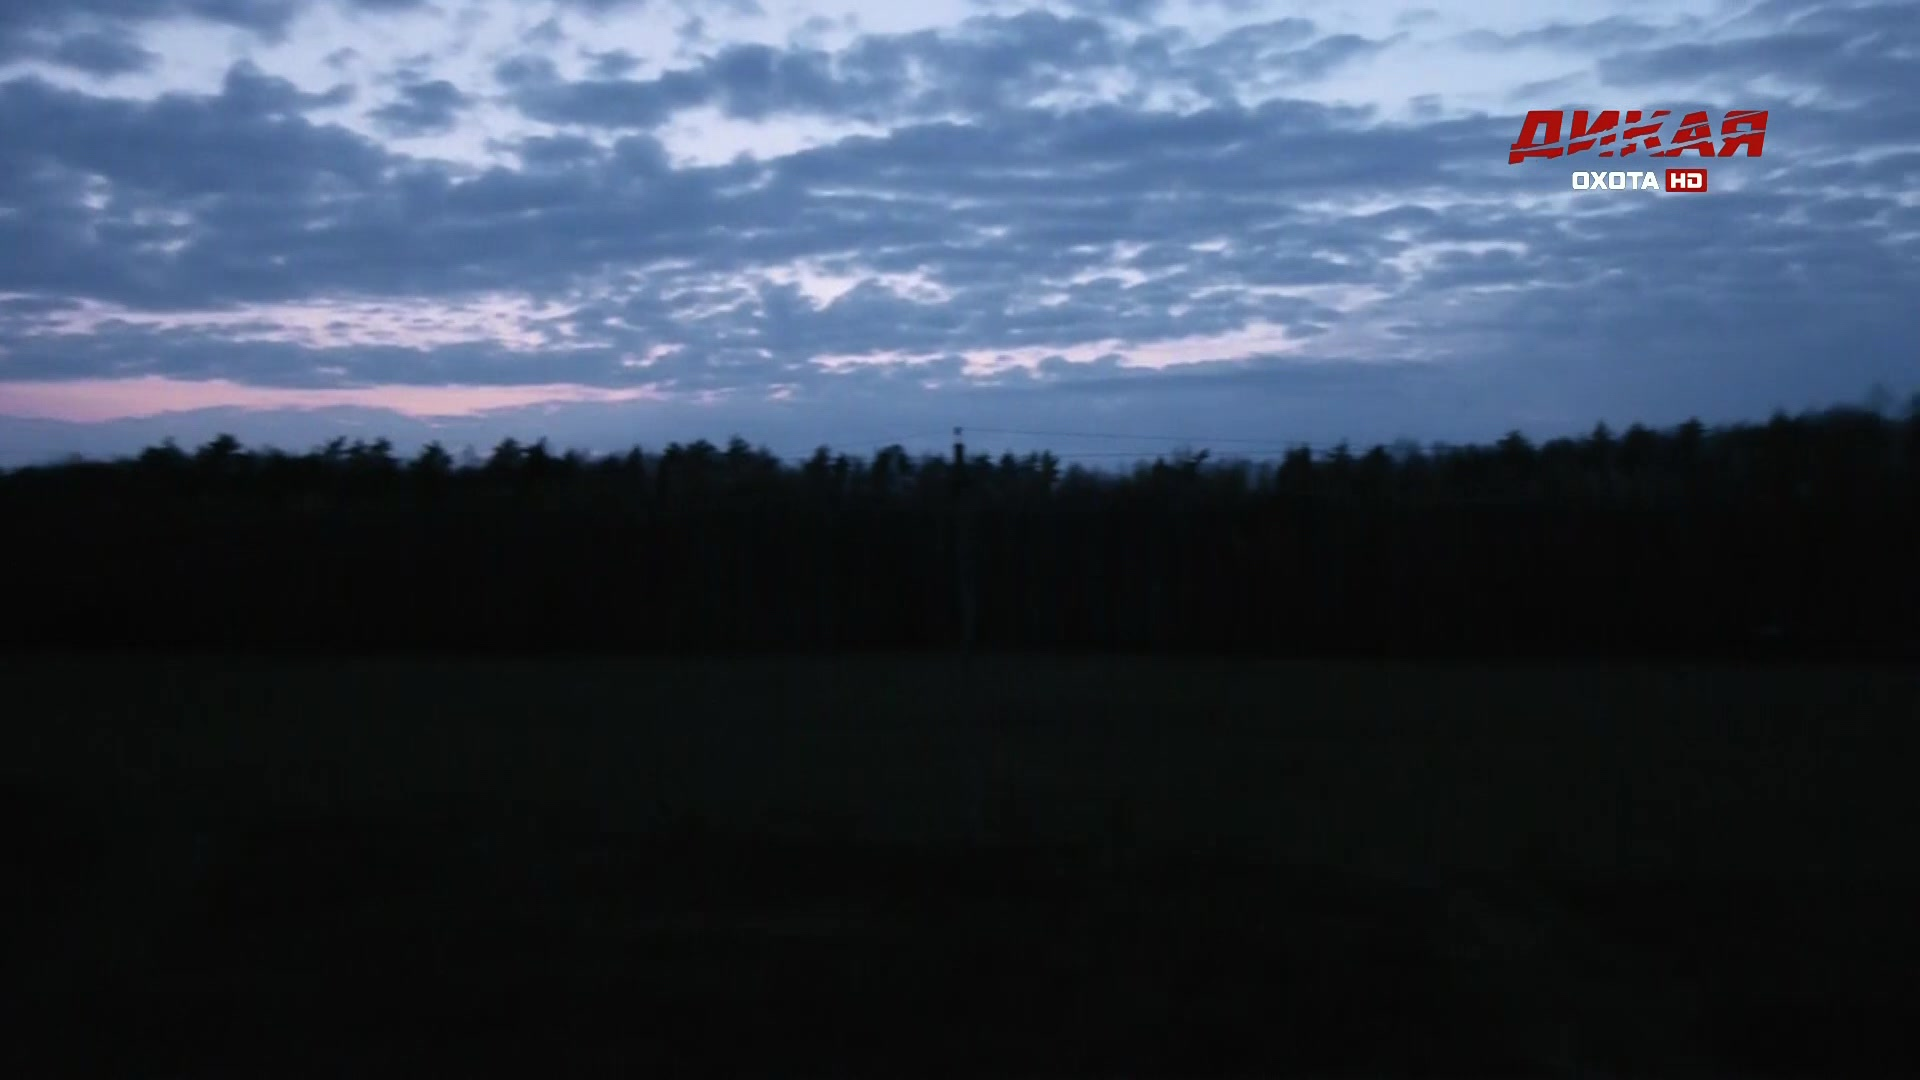Dikaya_Ohota_HD: (1507, 105, 1774, 195)
